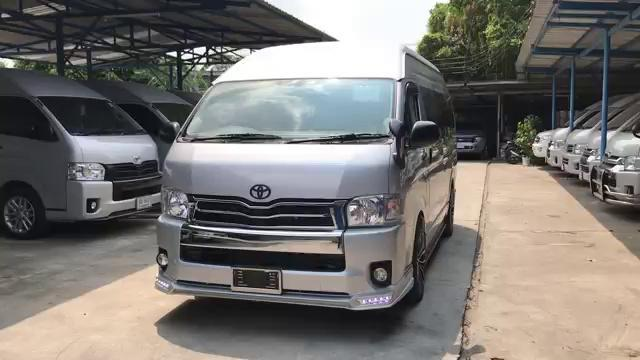Van: (152, 40, 462, 310)
